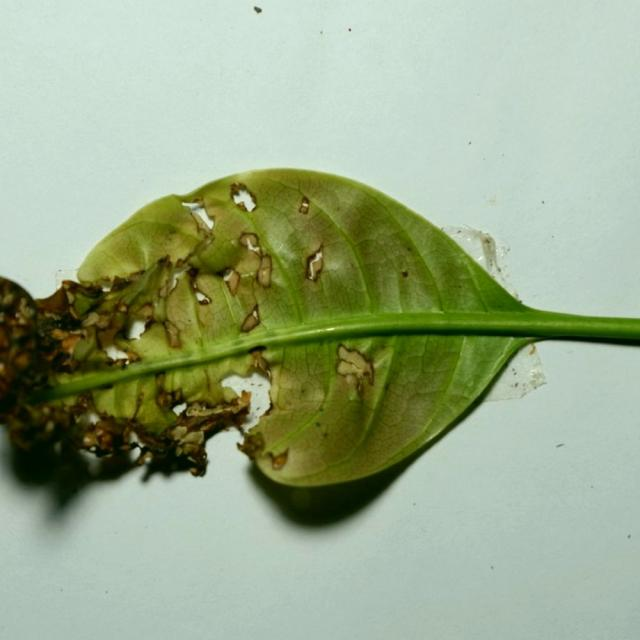Anthracnose: (347, 331, 465, 463), (426, 331, 527, 440), (264, 334, 347, 424), (243, 205, 320, 290), (250, 394, 343, 463), (189, 196, 264, 273), (304, 232, 366, 304), (357, 234, 414, 306), (390, 244, 441, 313), (296, 227, 344, 293), (189, 273, 238, 334), (162, 277, 203, 343), (413, 333, 461, 386), (131, 320, 175, 364)
Lemon: (0, 169, 639, 522)
